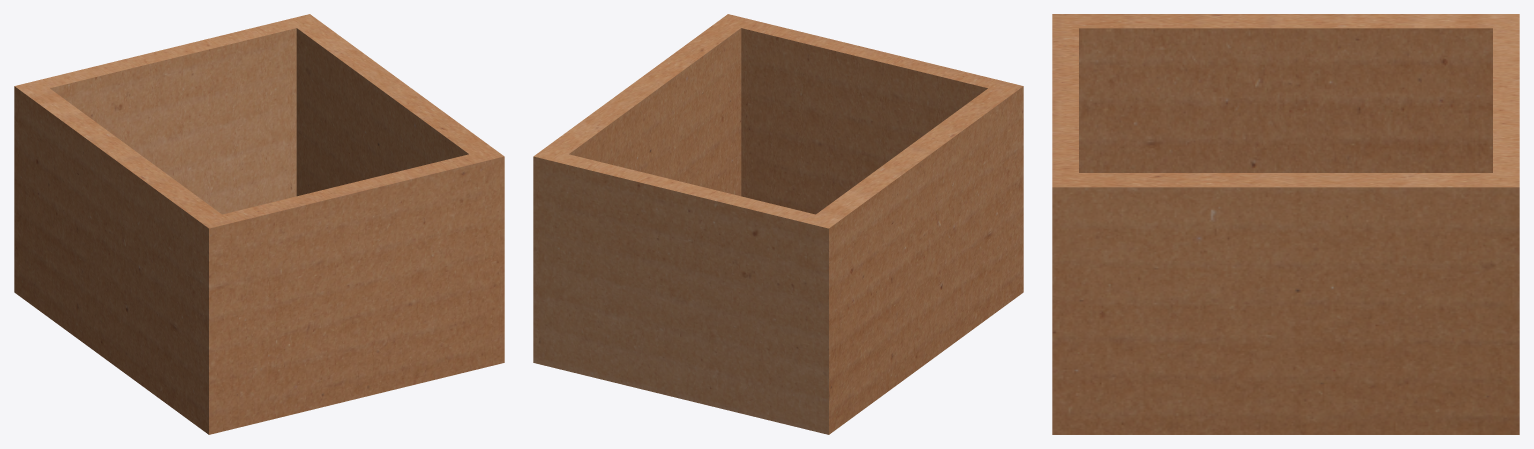
File: LightBulbBox.fbx
The picture shows the model from 3 angles, left to right: view 1: azimuth 30°, elevation 25°; view 2: azimuth 150°, elevation 25°; view 3: azimuth 270°, elevation 25°; orthographic projection. The views are drawn at different scales.
Visible parts, largest first — view 1: polySurface1; view 2: polySurface1; view 3: polySurface1.
Part boxes in pixels (bbox=[...]): polySurface1: bbox=[14, 14, 504, 434]; polySurface1: bbox=[533, 14, 1023, 434]; polySurface1: bbox=[1052, 14, 1519, 434].
Bounding box in the file's own units: 13.06 × 8.72 × 14.9.
